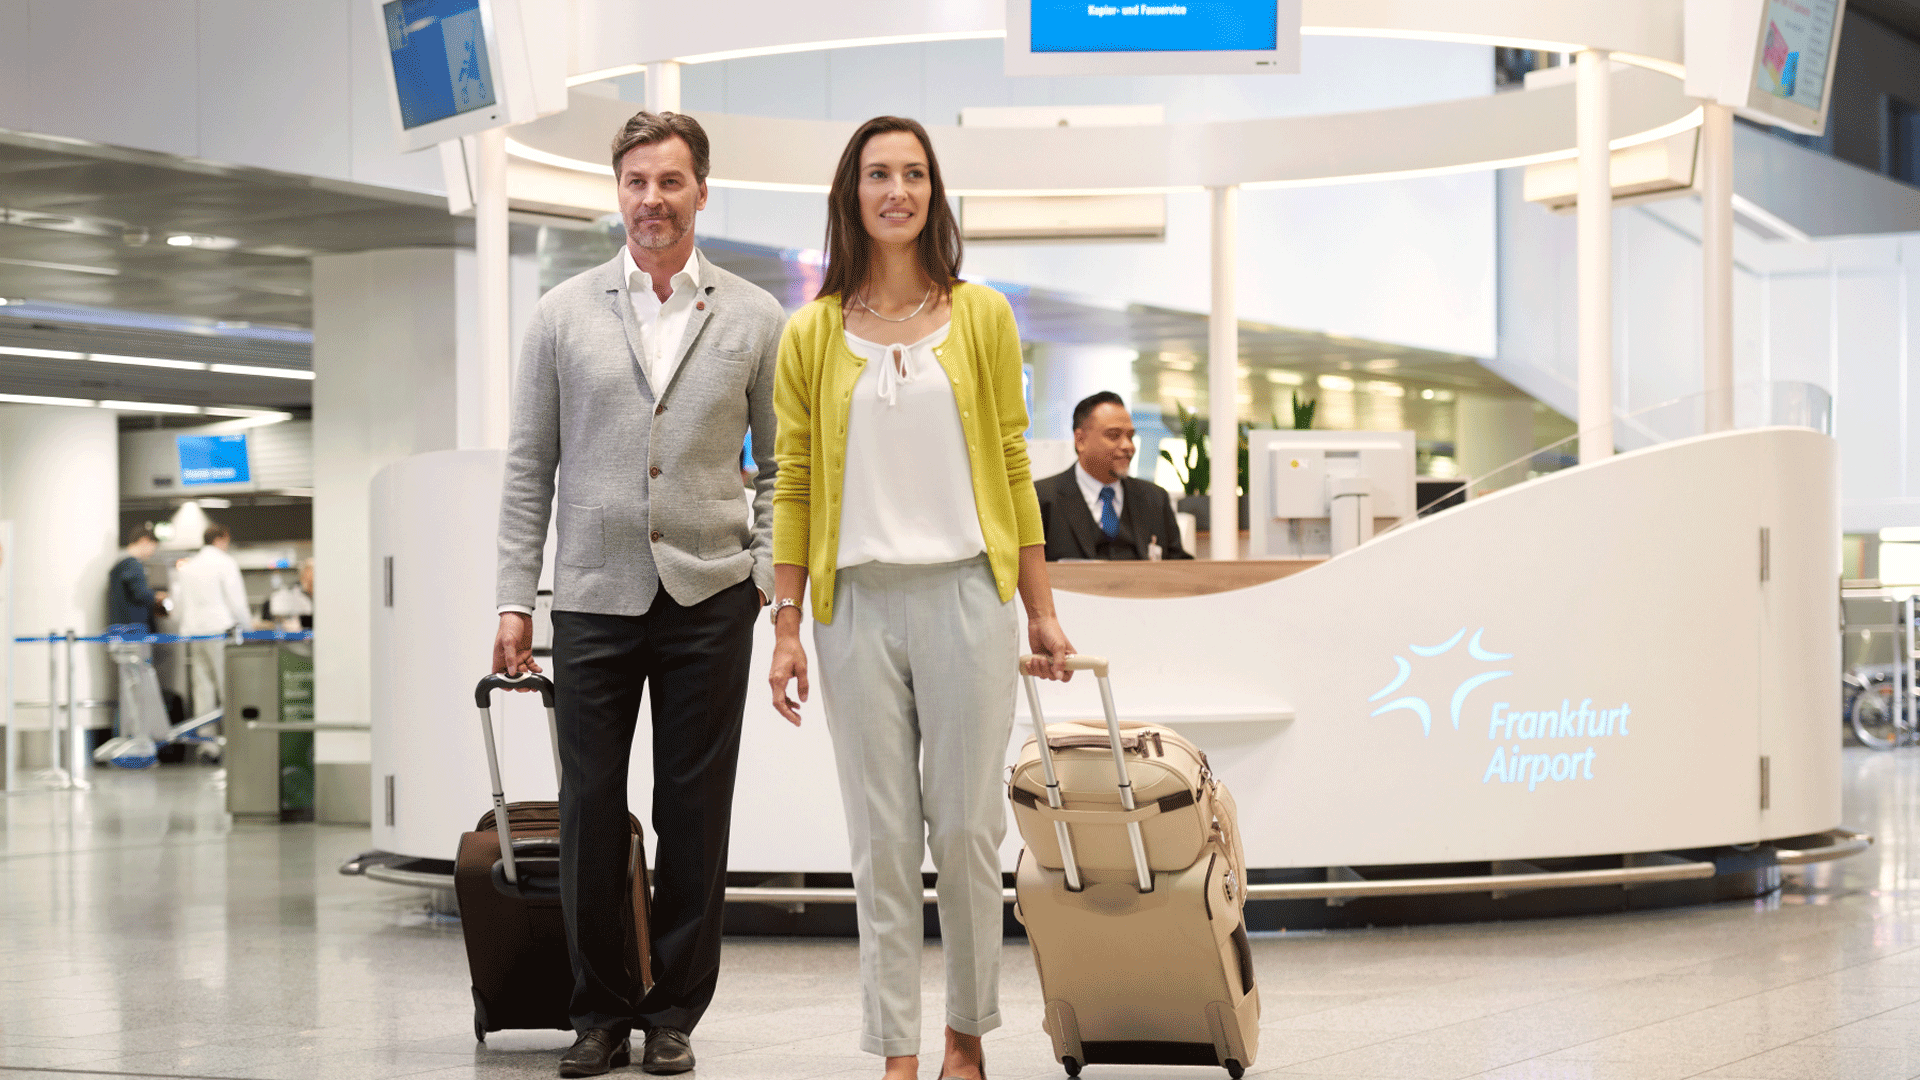luggage: (1003, 646, 1282, 1080), (449, 663, 674, 1068)
people: (477, 101, 799, 1080), (761, 108, 1084, 1080), (1020, 395, 1220, 579)
